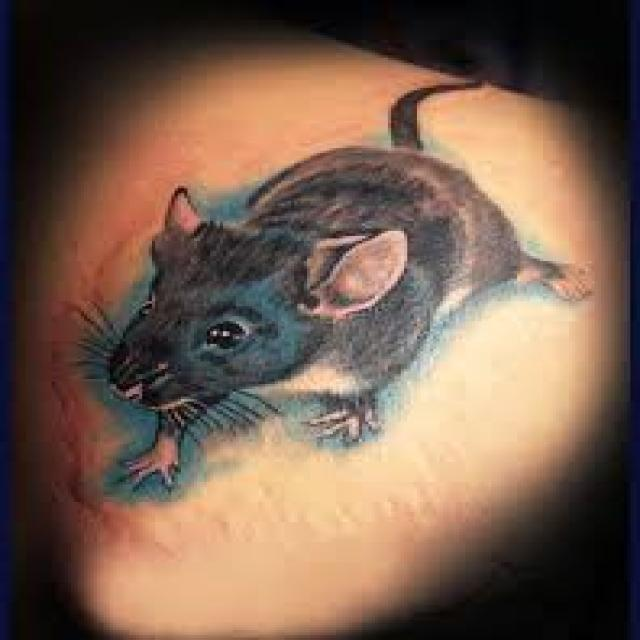Rat: (94, 49, 557, 434)
